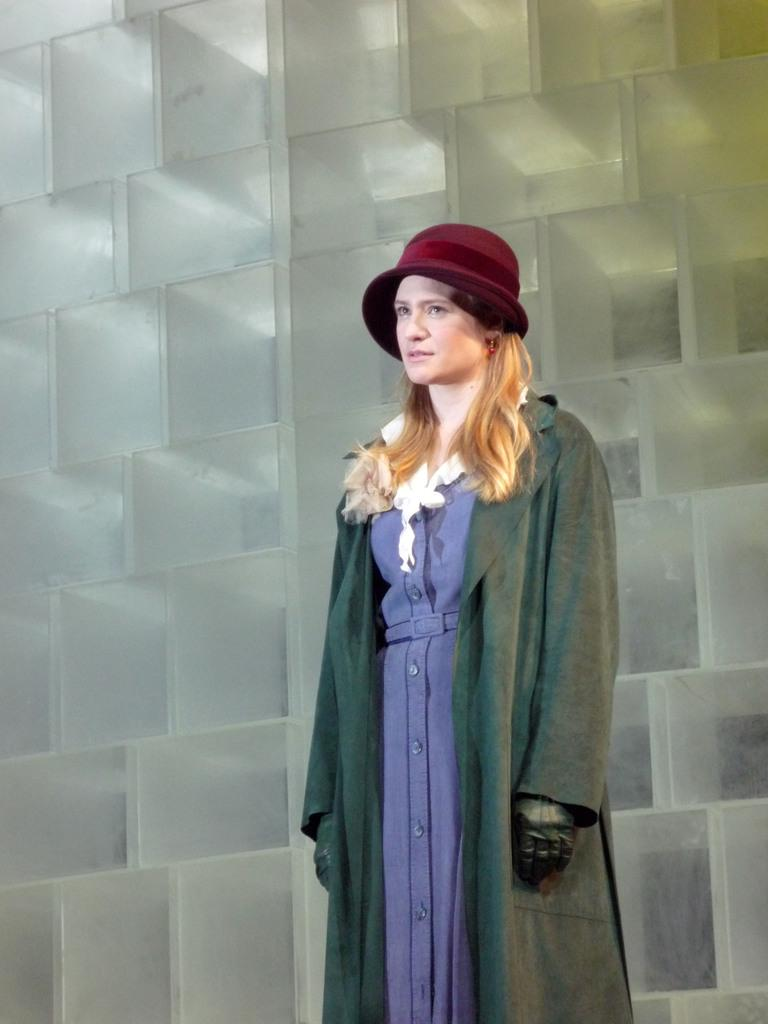Hat: (360, 224, 532, 358)
